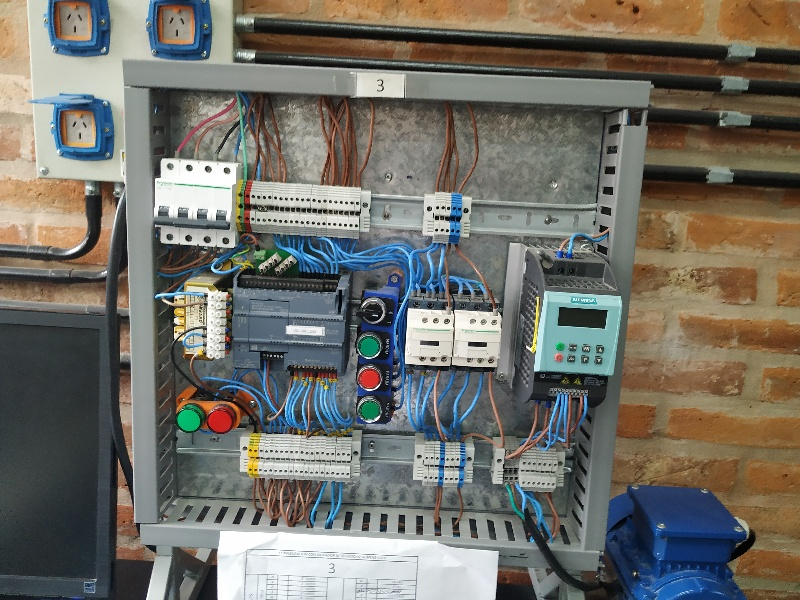Tablero 3: (136, 69, 624, 550)
